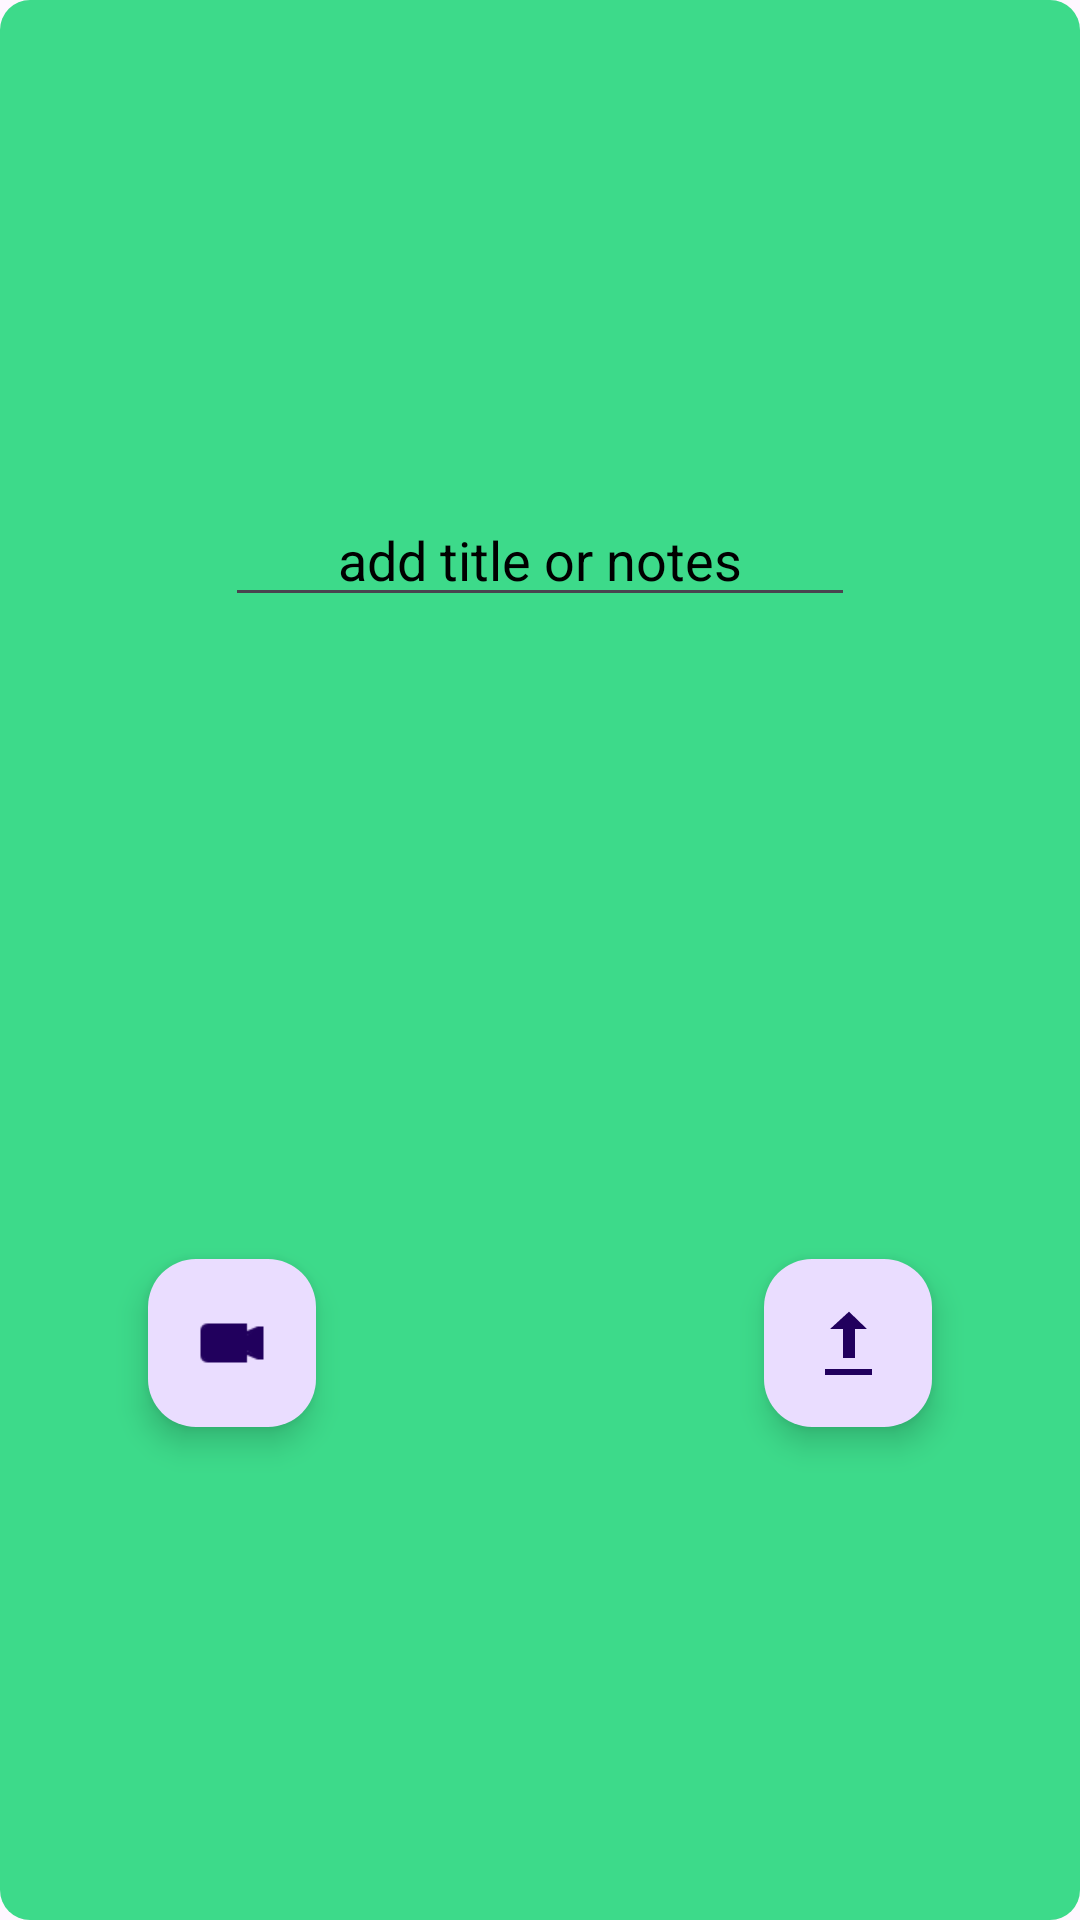

Icon bounding boxes for this 1080x1920 phone screenshot, format [x1,y1,x2,y2]:
upload: [764,1259,932,1427]
